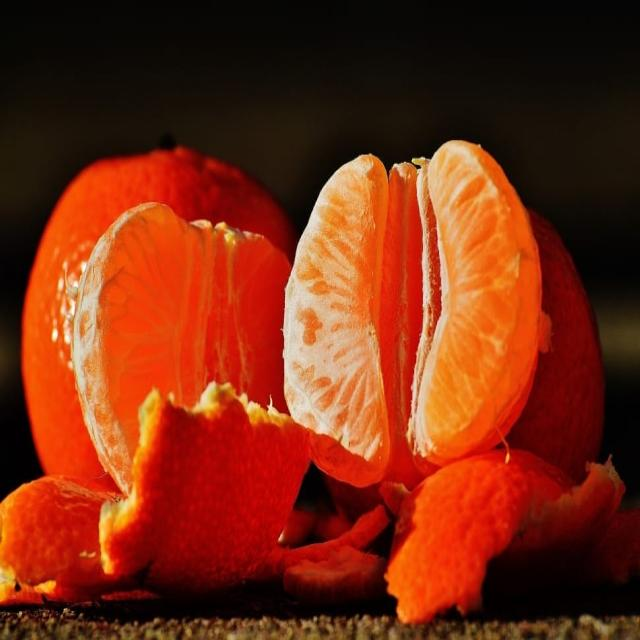orange: (286, 147, 551, 458), (69, 198, 299, 511)
